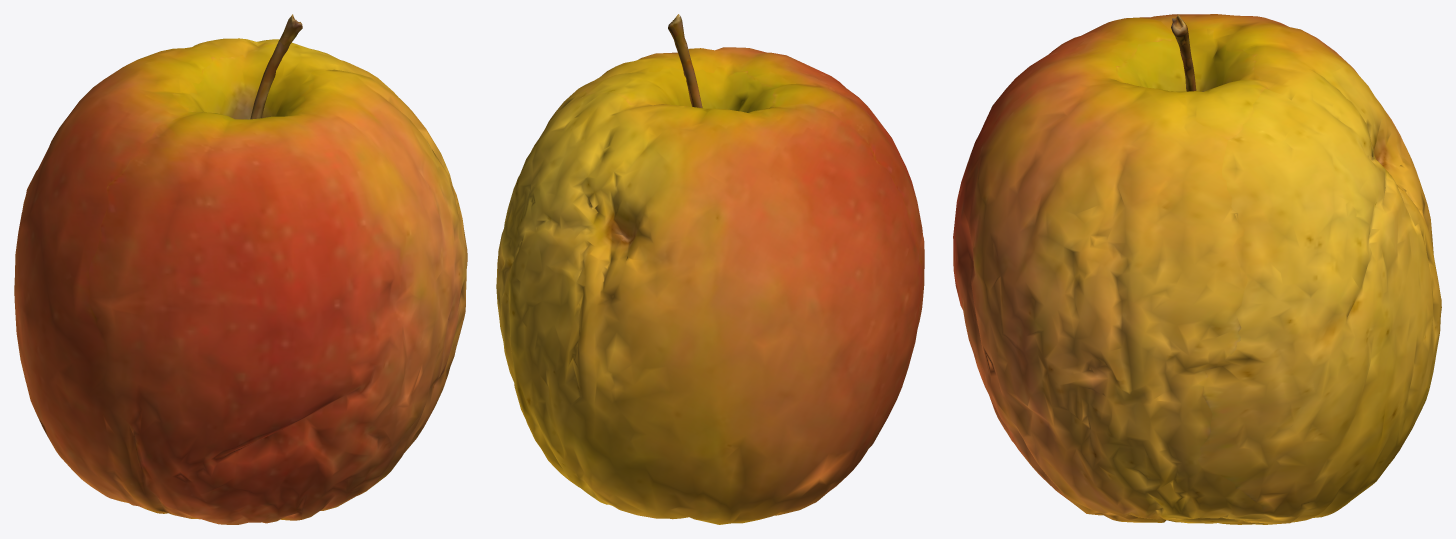
File: apple-red.glb
The picture shows the model from 3 angles, left to right: view 1: azimuth 30°, elevation 25°; view 2: azimuth 150°, elevation 25°; view 3: azimuth 270°, elevation 25°; orthographic projection. The views are drawn at different scales.
Parts seen in each view (by area): view 1: apple-red; view 2: apple-red; view 3: apple-red.
Boxes of the visible parts, <box> form: apple-red: <box>14,14,467,524</box>; apple-red: <box>496,14,924,524</box>; apple-red: <box>953,14,1441,524</box>.
Bounding box in the file's own units: 0.096 × 0.1106 × 0.098.
1 material, 1 textured.
